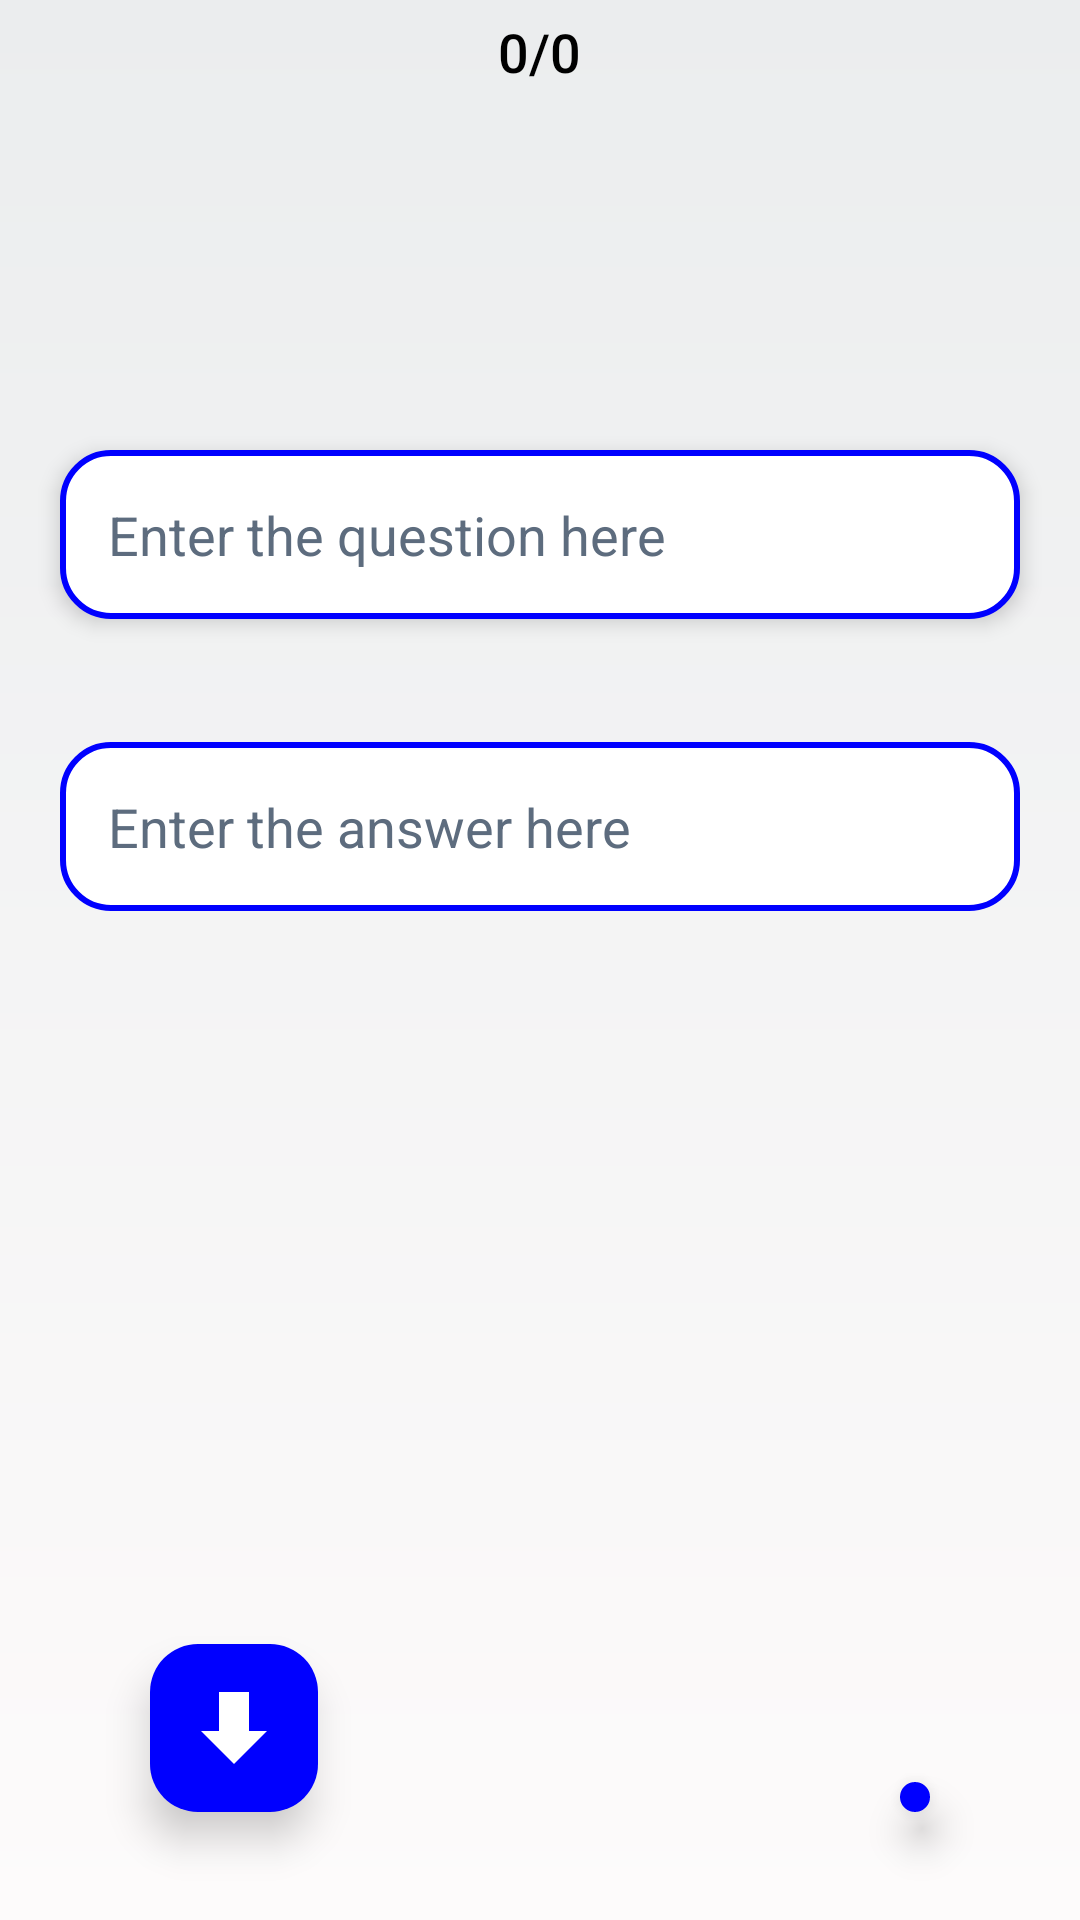

Icon bounding boxes for this 1080x1920 phone screenshot, format Rect(x1, y1, x2, y2):
Save: Rect(150, 1644, 318, 1812)
